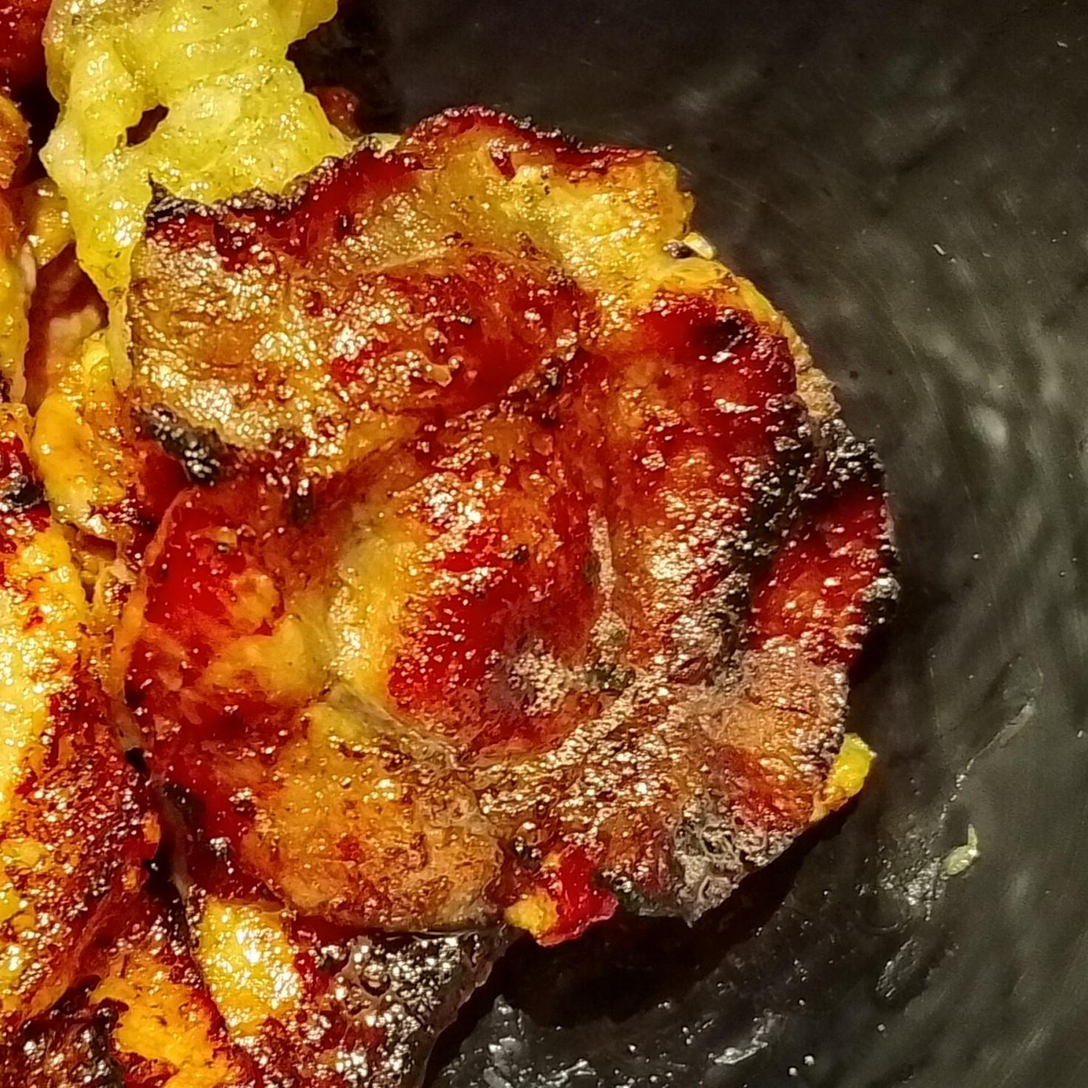Overcooked: (0, 0, 897, 1087)
